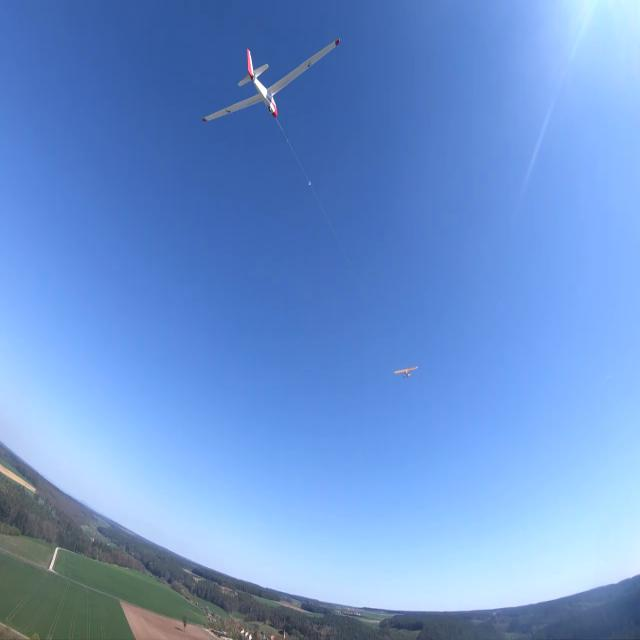iha: (206, 6, 338, 32), (389, 364, 417, 377)
